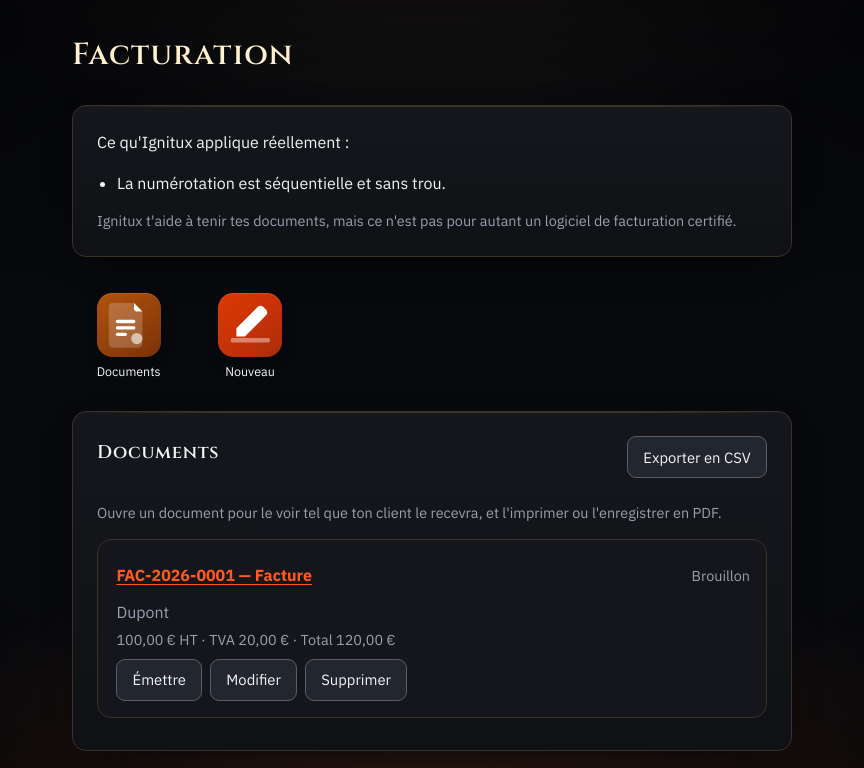
Test: BillingPage › modification d’un brouillon › pré-remplit le formulaire avec les valeurs actuelles du brouillon
The image size is (864, 768).
Click the button "Modifier". click: {"x": 254, "y": 680}
box: [210,659,297,701]
(page scrolled)
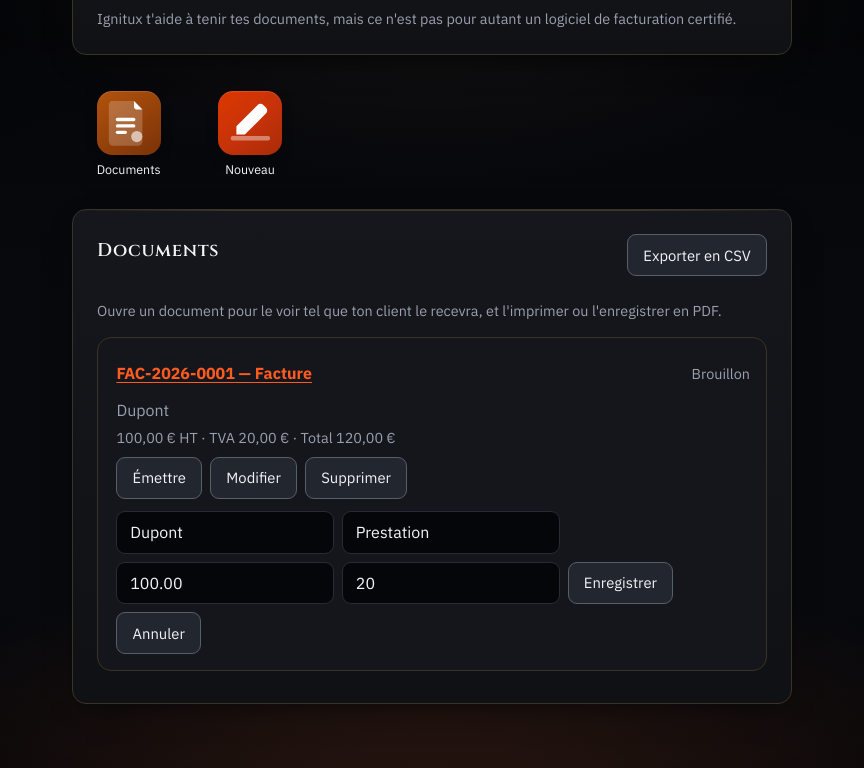
expect the field named "Modifier le nom du client" holds "Dupont": met, box [116,511,334,554]
expect the field named "Modifier la désignation" holds "Prestation": met, box [342,511,560,554]
expect the field named "Modifier le montant hors taxes en euros" holds "100.00": met, box [116,562,334,604]
